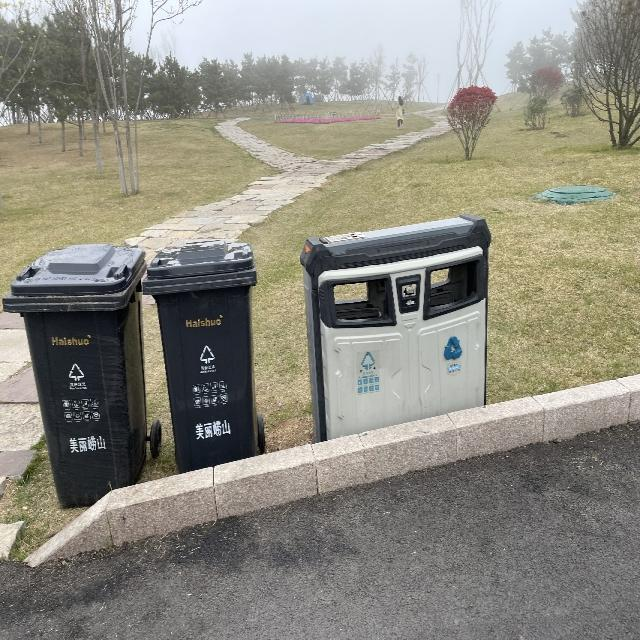garbage_bin: (299, 214, 491, 441), (2, 241, 146, 510), (141, 236, 257, 472)
